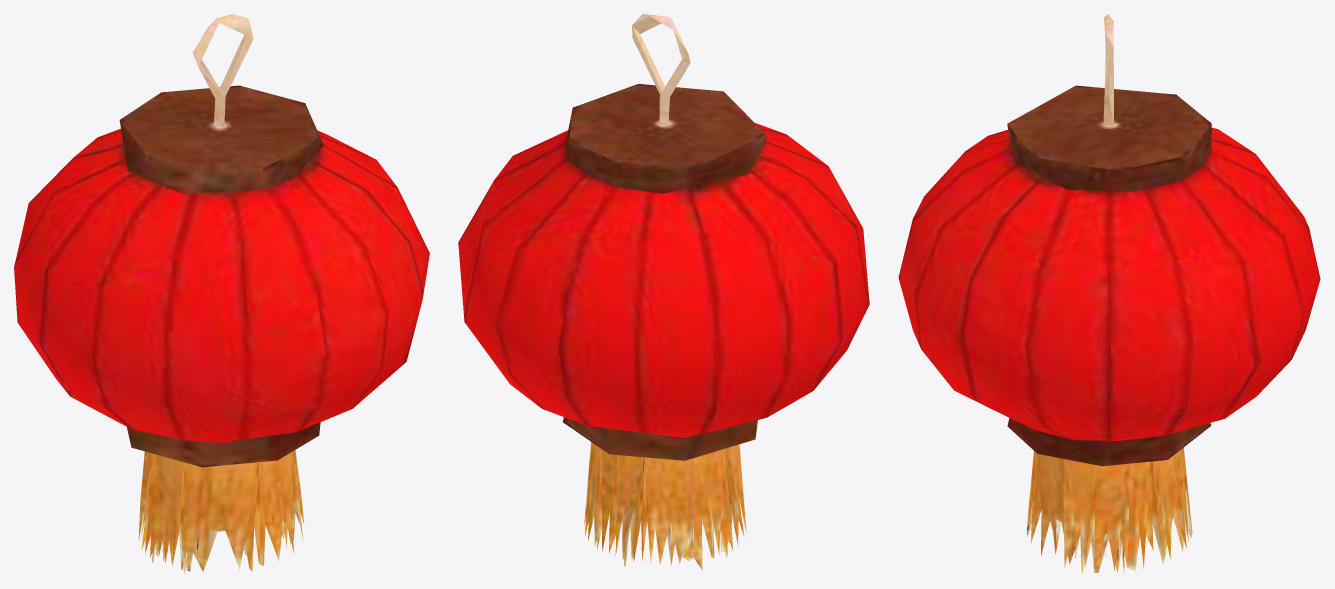
File: lantern_red_lo.glb
3 views of the same model, side by side, from view 1: azimuth 30°, elevation 25°; view 2: azimuth 150°, elevation 25°; view 3: azimuth 270°, elevation 25° (orthographic).
Parts seen in each view (by area): view 1: lantern_red; view 2: lantern_red; view 3: lantern_red.
Part boxes in pixels (<box>): lantern_red: <box>14,14,429,574</box>; lantern_red: <box>458,14,869,574</box>; lantern_red: <box>898,14,1320,574</box>.
Bounding box in the file's own units: 0.4244 × 0.5998 × 0.4299.
1 material, 1 textured.
